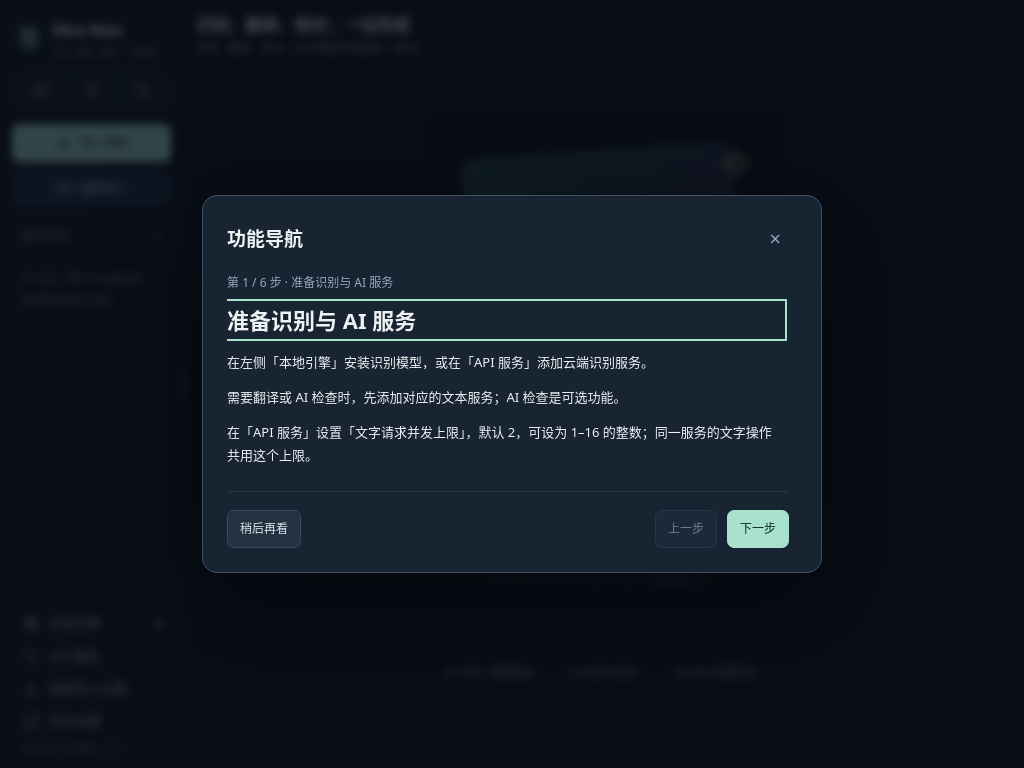
Scenario: App first-run guide lifecycle › opens once after successful empty startup under StrictMode and replays without project actions
Expected: the number of dialogs is 1, top-left (202, 195), bottom-right (822, 573)
Click the button "稍后再看" at (264, 529), box top-left (227, 510), bottom-right (301, 548)
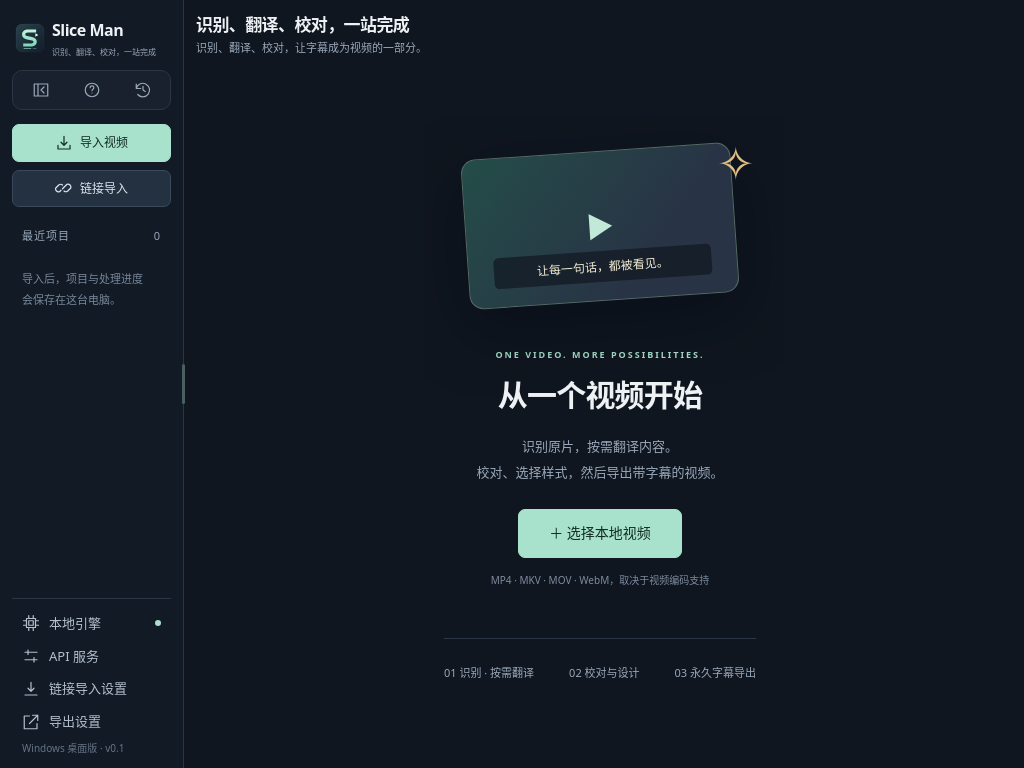
Now the element that starts with "Slice Man" has attribute data-onboarding-state="settled"
Click the button named "收起侧边栏" at (40, 90), box top-left (17, 75), bottom-right (64, 105)
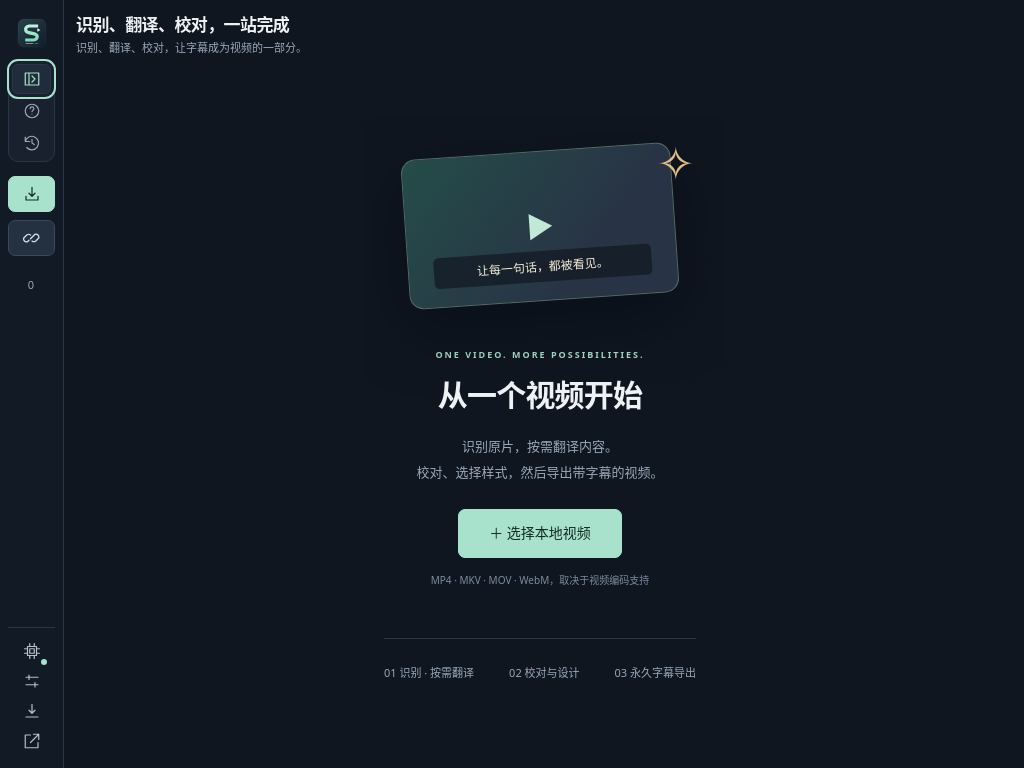
Expected: the 3rd icon is shown, top-left (22, 134), bottom-right (40, 152)
Expected: the heading "功能导航" is not shown
Click the button named "功能导航" at (32, 111), box top-left (12, 96), bottom-right (51, 126)
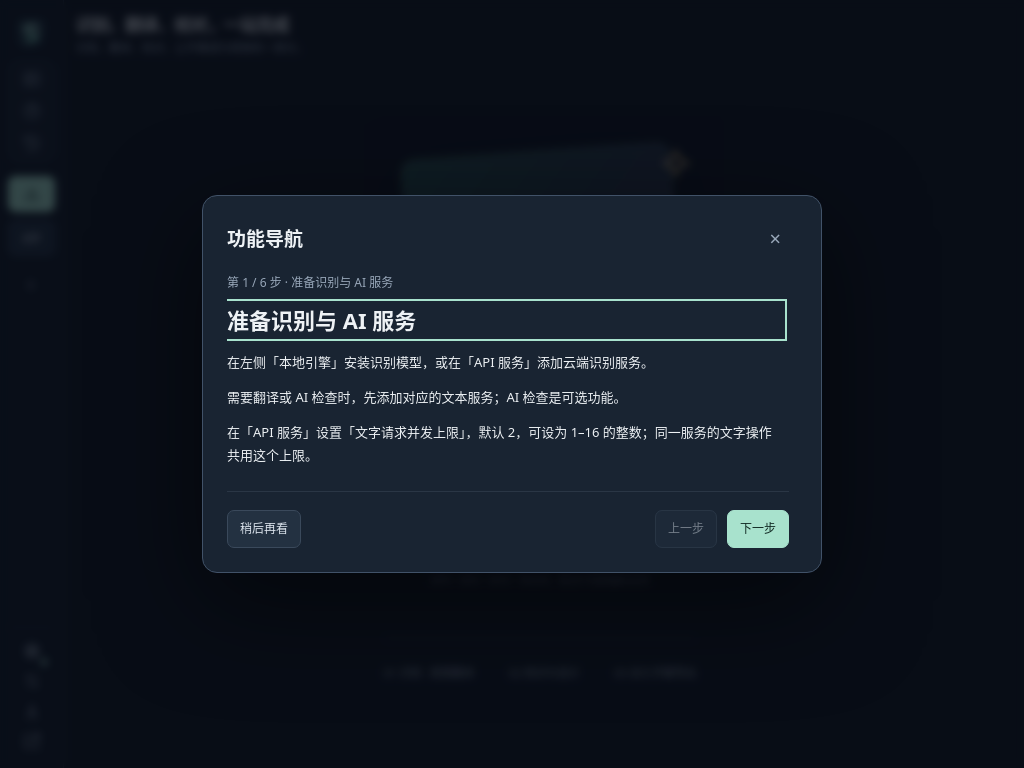
Now the message shows "第 1 / 6 步", box top-left (227, 274), bottom-right (393, 291)
